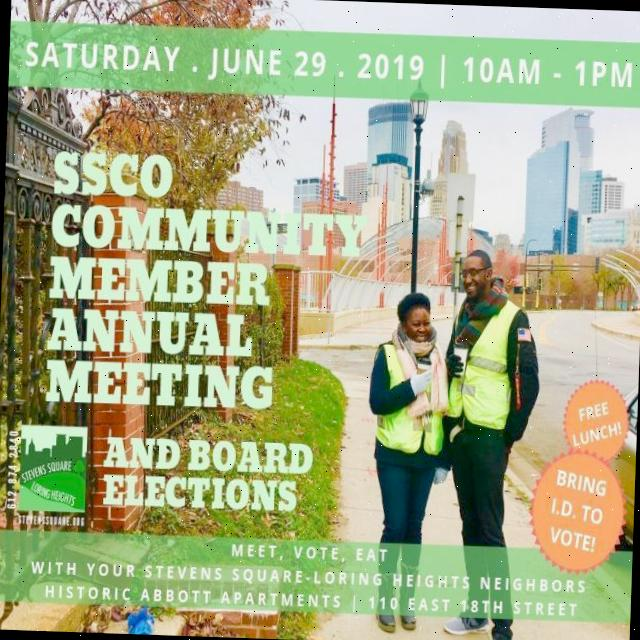vest: (458, 300, 518, 429), (372, 345, 432, 454)
